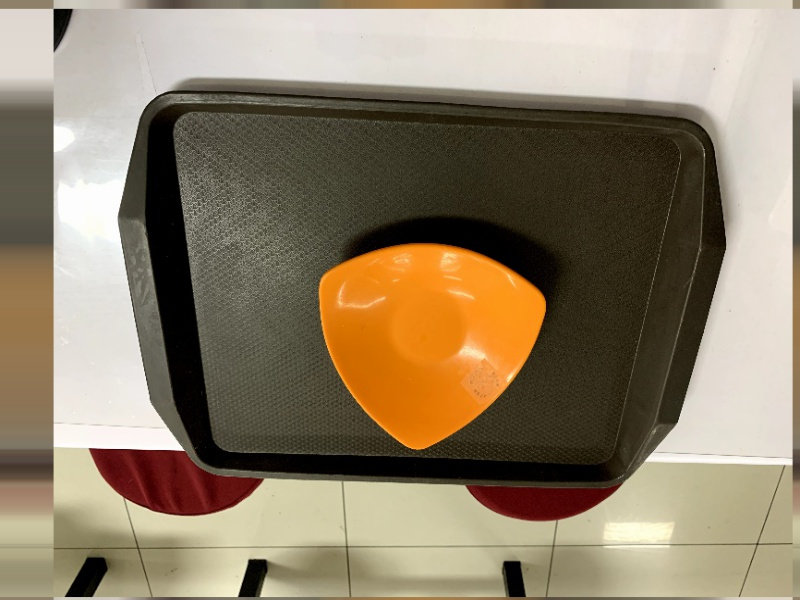dish11: (314, 239, 552, 451)
